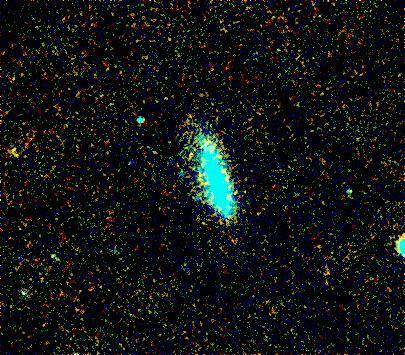star: (0, 141, 28, 171)
